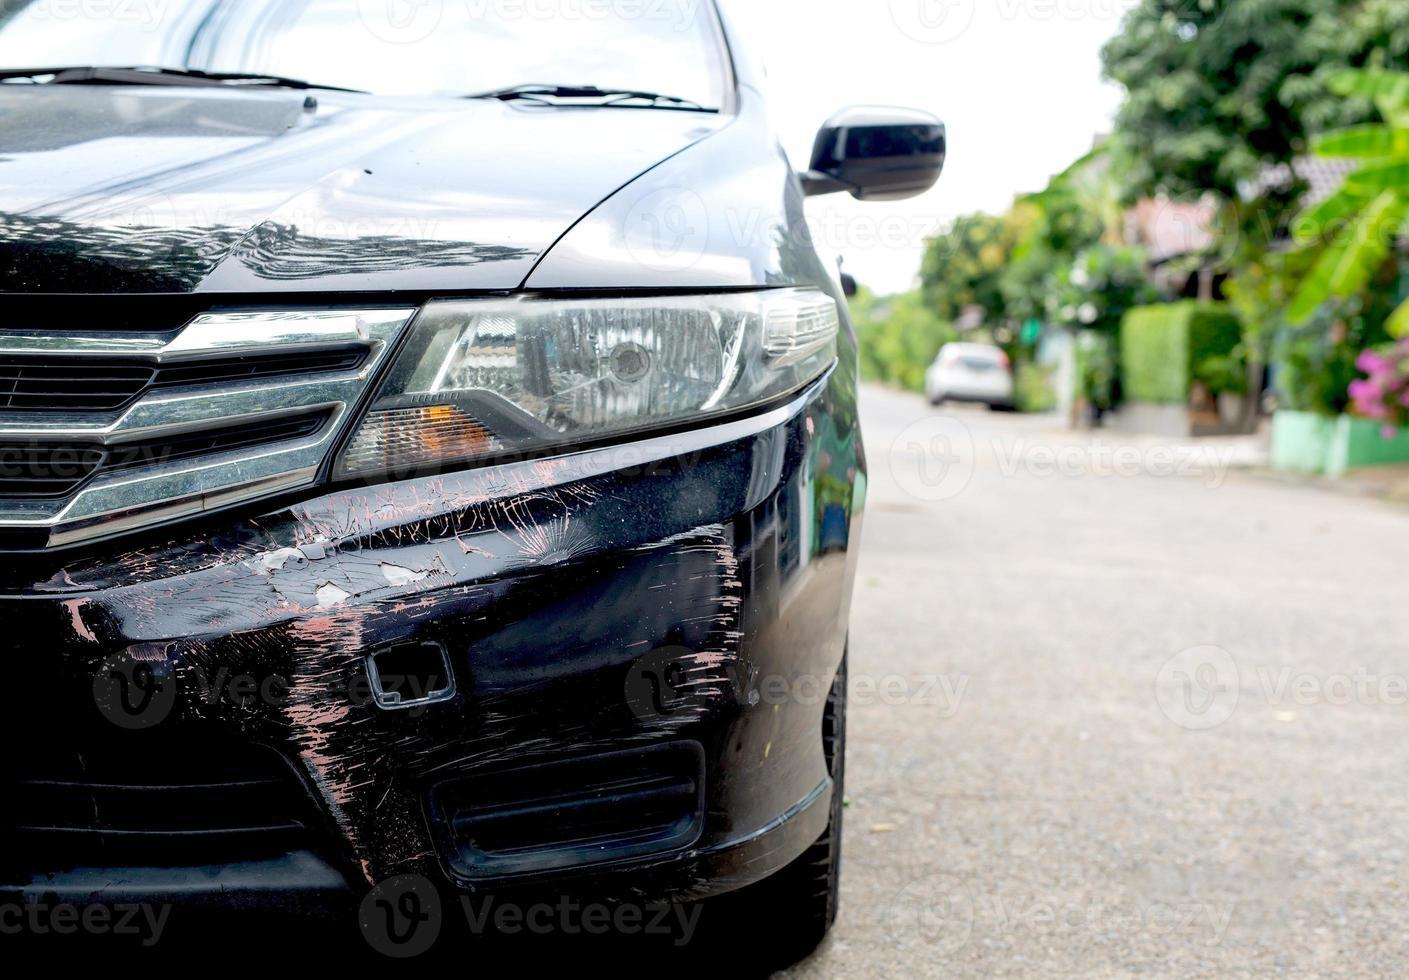scratch: (47, 437, 773, 922)
